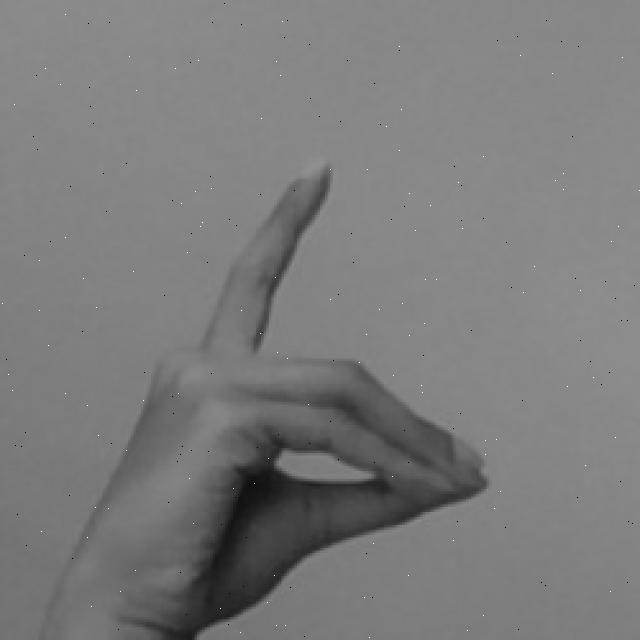D: (41, 153, 496, 640)
